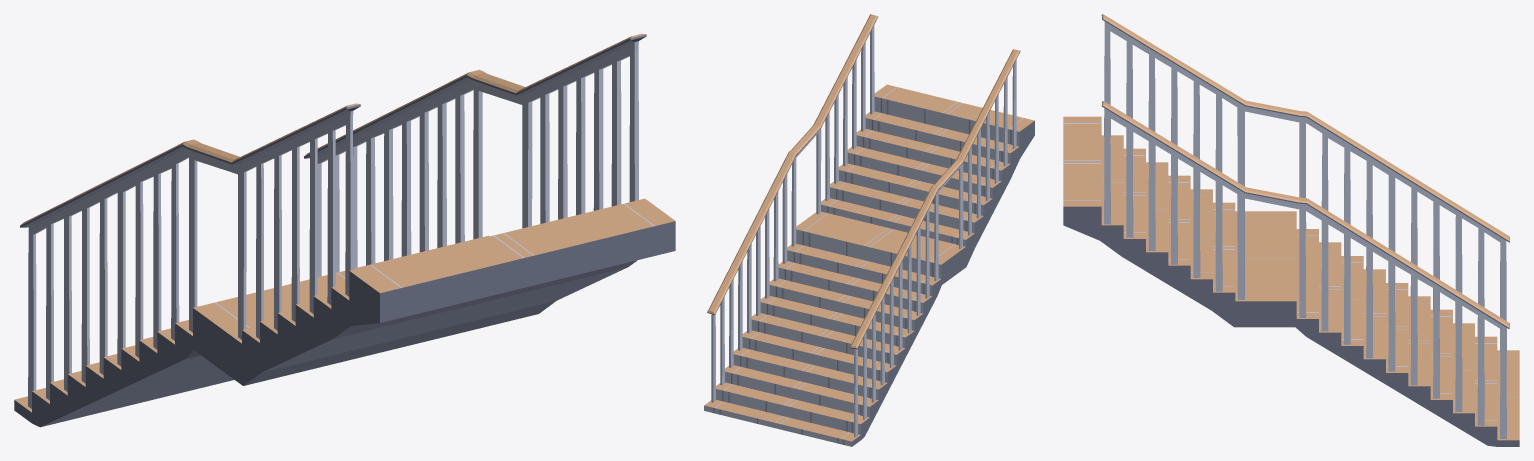
The model's file is stairs.FBX.
The picture shows the model from 3 angles, left to right: view 1: azimuth 30°, elevation 25°; view 2: azimuth 150°, elevation 25°; view 3: azimuth 270°, elevation 25°; orthographic projection. The views are drawn at different scales.
Parts seen in each view (by area): view 1: stairs1; view 2: stairs1; view 3: stairs1.
Part boxes in pixels (<box>): stairs1: <box>14,33,675,427</box>; stairs1: <box>704,14,1034,446</box>; stairs1: <box>1063,14,1519,446</box>.
Size of the model in its own units: 135 by 236 by 285.
